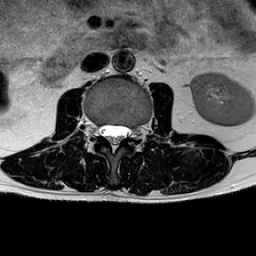CCS_normal: (109, 116, 118, 158)
LFS_normal: (130, 115, 139, 147)
LLS_normal: (118, 116, 130, 147)
RFS_normal: (89, 114, 99, 145)
RLS_normal: (99, 117, 109, 149)
